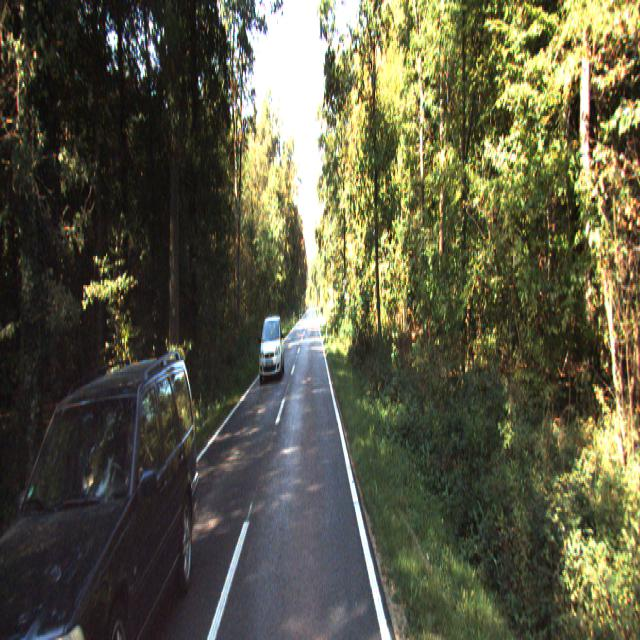Car: (0, 343, 212, 638), (258, 316, 286, 382)
